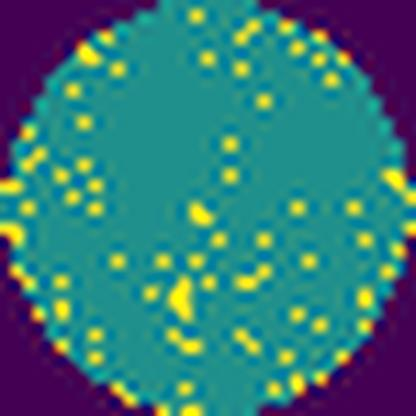Loc: (168, 278, 195, 324)
